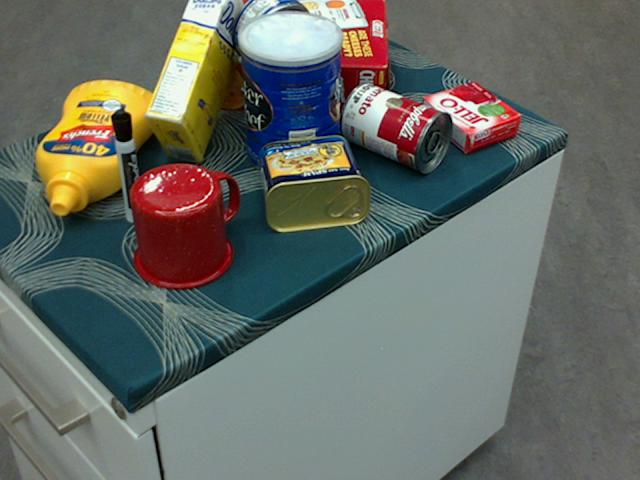cracker_box: (195, 0, 386, 113)
gelatin_box: (420, 82, 520, 152)
large_marker: (109, 109, 146, 221)
master_chef_can: (238, 10, 342, 179)
mug: (130, 161, 240, 288)
mustard_bottle: (35, 81, 157, 215)
potted_meat_can: (255, 132, 370, 233)
sugar_box: (145, 0, 250, 164)
tomato_soup_can: (340, 82, 453, 172)
tuna_fish_can: (231, 0, 312, 71)
